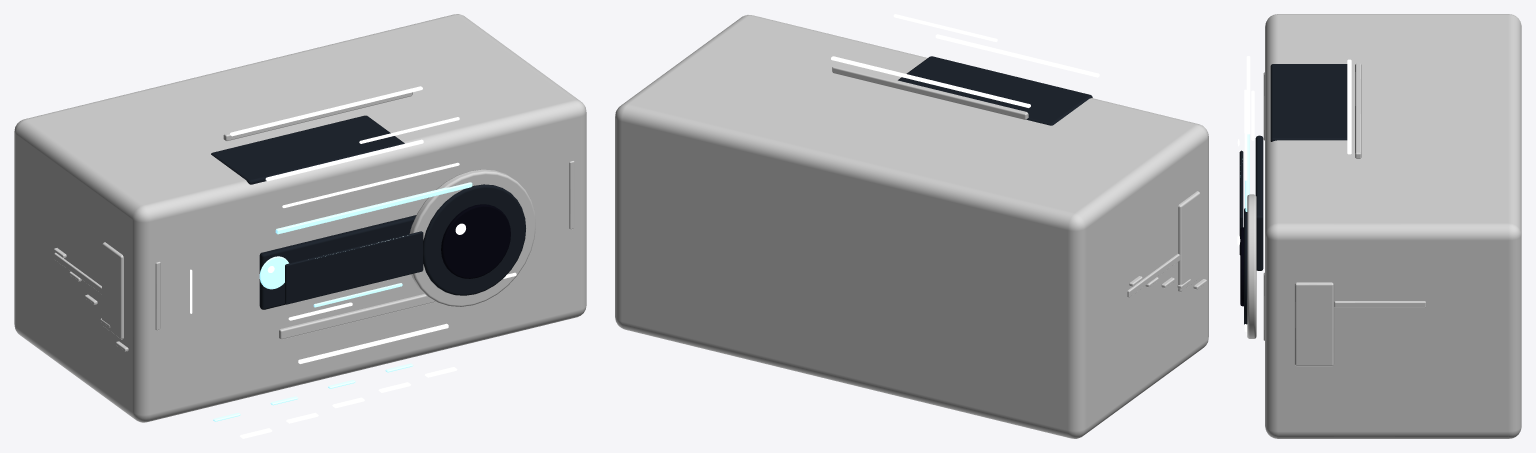
3 views of the same model, side by side, from view 1: azimuth 30°, elevation 25°; view 2: azimuth 150°, elevation 25°; view 3: azimuth 270°, elevation 25° (orthographic). The views are drawn at different scales.
Parts seen in each view (by area): view 1: product_body_layered_beveled_main, top_inset_panel_black_glass, front_inset_panel_inner_cut_shadow, front_lens_outer_glass_ring, front_lens_metal_bezel_step, front_lens_inner_black_glass, front_inset_panel_smoked_glass, body_side_thickness_left_visible_face, body_front_lower_bevel_plane, front_cold_blue_rim_lip, body_top_back_bevel_plane, bevel_edge_catch_light_top (+4 smaller); view 2: product_body_layered_beveled_main, top_inset_panel_black_glass, body_side_thickness_left_visible_face, body_top_back_bevel_plane, bevel_edge_catch_light_top, top_white_highlight_line_primary; view 3: product_body_layered_beveled_main, top_inset_panel_black_glass, body_side_thickness_right_visible_face, front_lens_metal_bezel_step, front_inset_panel_smoked_glass, body_top_back_bevel_plane, side_groove_shadow_cut_right, bevel_edge_catch_light_top, front_lens_outer_glass_ring, front_inset_panel_inner_cut_shadow, top_white_highlight_line_primary, front_lens_inner_black_glass (+1 smaller).
Boxes of the visible parts, x1=… form: product_body_layered_beveled_main: x1=14, y1=14, x2=586, y2=422; top_inset_panel_black_glass: x1=211, y1=115, x2=404, y2=184; front_inset_panel_inner_cut_shadow: x1=285, y1=231, x2=423, y2=304; front_lens_outer_glass_ring: x1=423, y1=184, x2=525, y2=295; front_lens_metal_bezel_step: x1=409, y1=169, x2=535, y2=306; front_lens_inner_black_glass: x1=441, y1=204, x2=510, y2=278; front_inset_panel_smoked_glass: x1=259, y1=215, x2=416, y2=309; body_side_thickness_left_visible_face: x1=102, y1=242, x2=123, y2=339; body_front_lower_bevel_plane: x1=279, y1=294, x2=435, y2=339; front_cold_blue_rim_lip: x1=275, y1=182, x2=472, y2=234; body_top_back_bevel_plane: x1=223, y1=88, x2=412, y2=141; bevel_edge_catch_light_top: x1=230, y1=86, x2=422, y2=136; product_body_layered_beveled_main: x1=615, y1=15, x2=1208, y2=438; top_inset_panel_black_glass: x1=898, y1=56, x2=1092, y2=125; body_side_thickness_left_visible_face: x1=1178, y1=191, x2=1200, y2=291; body_top_back_bevel_plane: x1=832, y1=65, x2=1028, y2=120; bevel_edge_catch_light_top: x1=831, y1=56, x2=1030, y2=107; top_white_highlight_line_primary: x1=935, y1=34, x2=1099, y2=77; product_body_layered_beveled_main: x1=1265, y1=14, x2=1521, y2=438; top_inset_panel_black_glass: x1=1270, y1=64, x2=1347, y2=141; body_side_thickness_right_visible_face: x1=1294, y1=282, x2=1334, y2=366; front_lens_metal_bezel_step: x1=1247, y1=194, x2=1256, y2=338; front_inset_panel_smoked_glass: x1=1255, y1=135, x2=1263, y2=270; body_top_back_bevel_plane: x1=1355, y1=63, x2=1361, y2=159; side_groove_shadow_cut_right: x1=1334, y1=301, x2=1426, y2=307; bevel_edge_catch_light_top: x1=1347, y1=59, x2=1351, y2=154; front_lens_outer_glass_ring: x1=1244, y1=208, x2=1247, y2=324; front_inset_panel_inner_cut_shadow: x1=1239, y1=150, x2=1243, y2=254; top_white_highlight_line_primary: x1=1246, y1=56, x2=1250, y2=134; front_lens_inner_black_glass: x1=1240, y1=227, x2=1243, y2=306.
Size of what is drawn, in the model's own units: 2.4 by 1.41 by 1.3.
